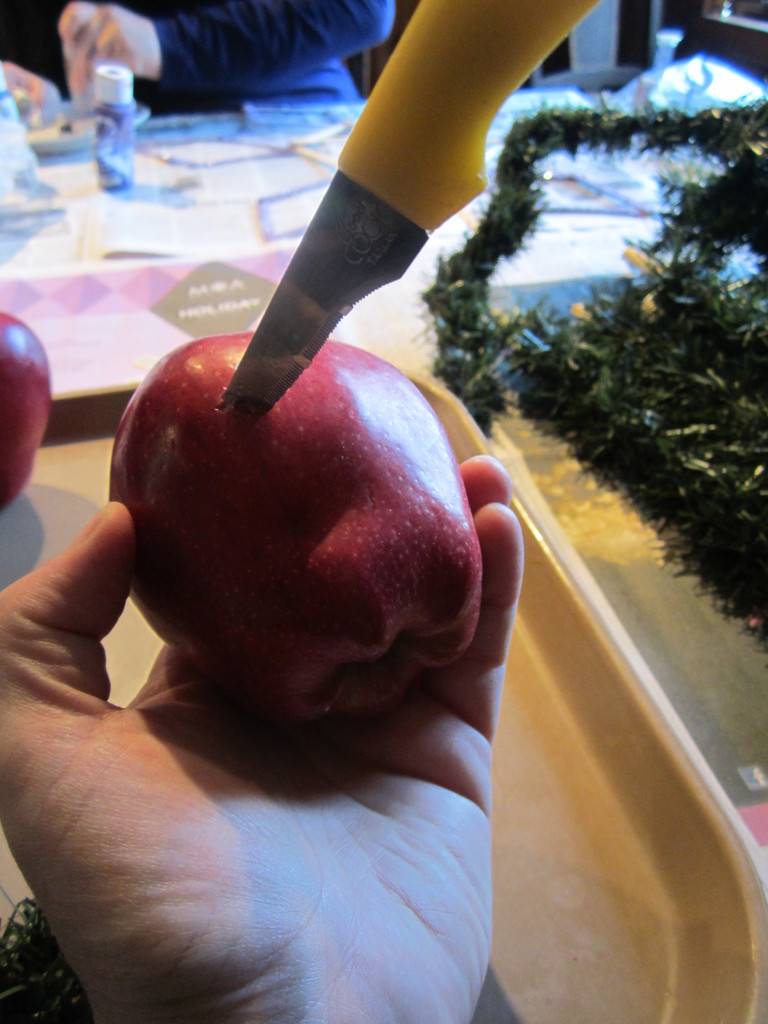Apple: (102, 314, 481, 734), (0, 309, 52, 520)
